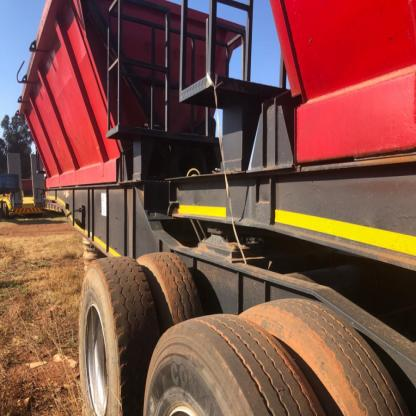dump_truck: (14, 2, 414, 416)
